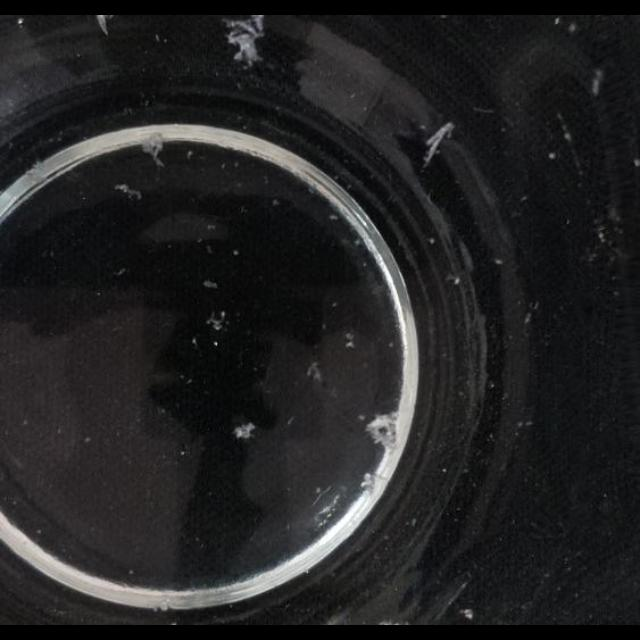Fibre: (209, 14, 271, 68), (418, 116, 454, 168), (364, 412, 400, 452), (586, 58, 608, 105), (140, 133, 167, 167), (114, 183, 142, 201), (233, 422, 257, 441), (206, 310, 227, 330), (306, 362, 324, 382), (568, 22, 578, 34), (523, 310, 531, 324)
microbeads: (359, 472, 377, 492), (459, 608, 473, 620), (202, 280, 218, 288), (114, 268, 126, 276), (410, 516, 418, 528), (345, 339, 355, 348), (190, 337, 198, 347), (207, 223, 217, 231), (287, 416, 295, 426), (329, 212, 339, 220), (524, 419, 534, 427), (186, 150, 194, 160), (427, 237, 435, 246), (493, 258, 502, 266), (314, 486, 322, 494), (548, 151, 556, 159), (357, 414, 365, 422), (453, 277, 461, 285), (180, 449, 187, 456), (83, 436, 91, 442), (442, 466, 448, 474), (129, 568, 135, 576), (23, 419, 29, 427), (330, 302, 338, 308), (232, 250, 238, 256), (212, 341, 218, 347), (35, 528, 41, 534)
